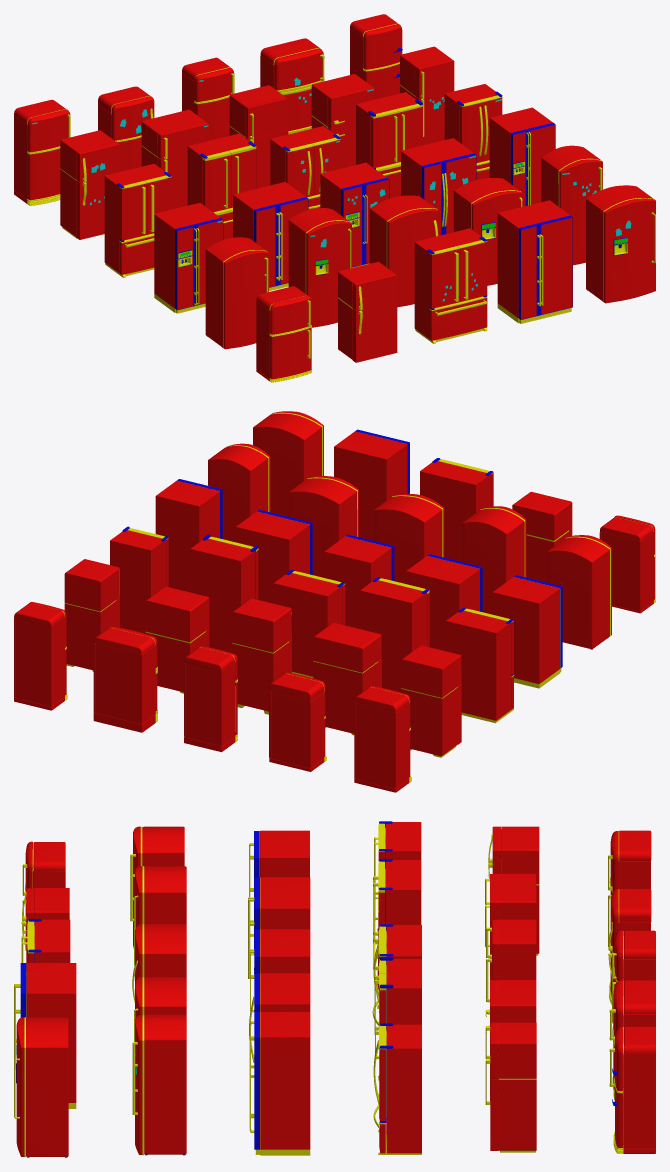
Rendered from fridges_grp.fbx.
3 views of the same model, one above another, from view 1: azimuth 30°, elevation 25°; view 2: azimuth 150°, elevation 25°; view 3: azimuth 270°, elevation 25° (orthographic). The views are drawn at different scales.
Visible parts, largest first — view 1: fridge_door_e6, fridge_door_e2, fridge_door_e1, fridge_d6, fridge_maindoor_d6, fridge_door_e3, fridge_d1, fridge_door_e5, fridge_c6, fridge_e6, fridge_maindoor_b6, fridge_e1 (+74 smaller); view 2: fridge_a4, fridge_c1, fridge_e1, fridge_a1, fridge_d1, fridge_b1, fridge_a5, fridge_b3, fridge_b2, fridge_a3, fridge_a2, fridge_c4 (+18 smaller); view 3: fridge_d5, fridge_e5, fridge_e6, fridge_b5, fridge_c5, fridge_a5, fridge_d6, fridge_d2, fridge_e2, fridge_c2, fridge_c4, fridge_d1 (+31 smaller).
Part boxes in pixels (x1,y1,x2,y2): fridge_door_e6: (603,198,655,303); fridge_door_e2: (305,220,351,327); fridge_door_e1: (223,250,268,349); fridge_d6: (497,200,571,323); fridge_maindoor_d6: (537,215,572,315); fridge_door_e3: (386,208,438,307); fridge_d1: (154,203,220,313); fridge_door_e5: (558,158,602,265); fridge_c6: (414,228,487,343); fridge_e6: (586,185,652,301); fridge_maindoor_b6: (352,301,397,362); fridge_e1: (205,237,266,347); fridge_a4: (93,627,157,732); fridge_c1: (446,607,513,723); fridge_e1: (547,537,609,649); fridge_a1: (354,687,411,792); fridge_d1: (492,577,561,688); fridge_b1: (401,648,457,757); fridge_a5: (14,603,67,710); fridge_b3: (232,600,288,714); fridge_b2: (313,625,378,735); fridge_a3: (184,647,237,752); fridge_a2: (269,673,326,771); fridge_c4: (190,534,257,652); fridge_d5: (255,1012,310,1155); fridge_e5: (144,1014,186,1155); fridge_e6: (26,1017,68,1157); fridge_b5: (499,1022,536,1152); fridge_c5: (378,1023,421,1154); fridge_a5: (613,1026,655,1153); fridge_d6: (26,963,76,1108); fridge_d2: (260,877,310,929); fridge_e2: (144,866,186,924); fridge_c2: (377,859,421,1008); fridge_c4: (378,957,421,1104); fridge_d1: (260,830,309,877).
Size of the model in its own units: 921 by 232 by 1095.
